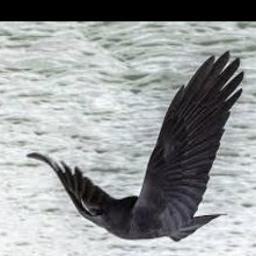Crow: (25, 52, 244, 244)
